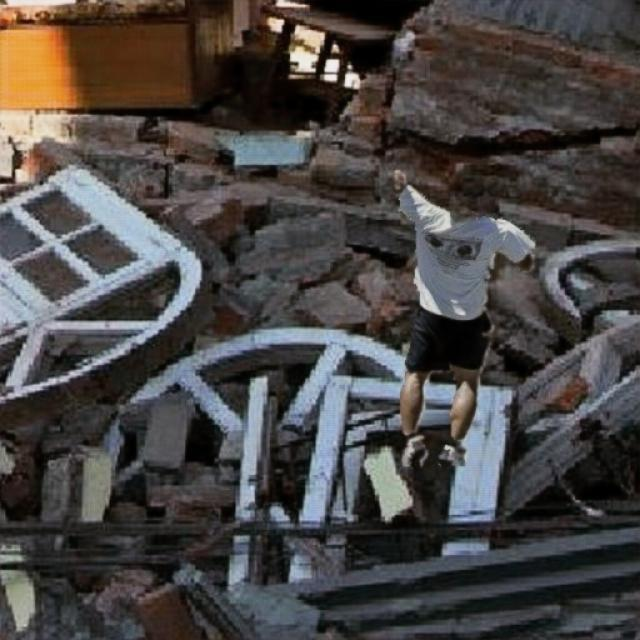Person in Rubble: (395, 170, 536, 465)
